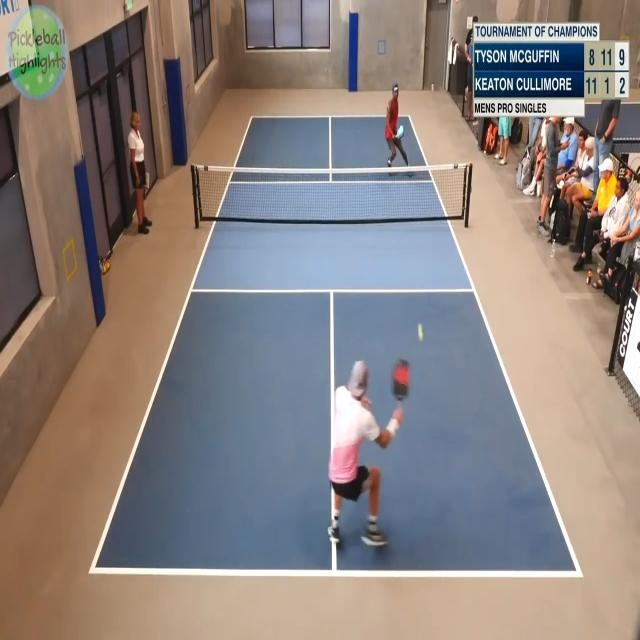Court: (93, 119, 582, 576)
ball: (416, 314, 428, 354)
